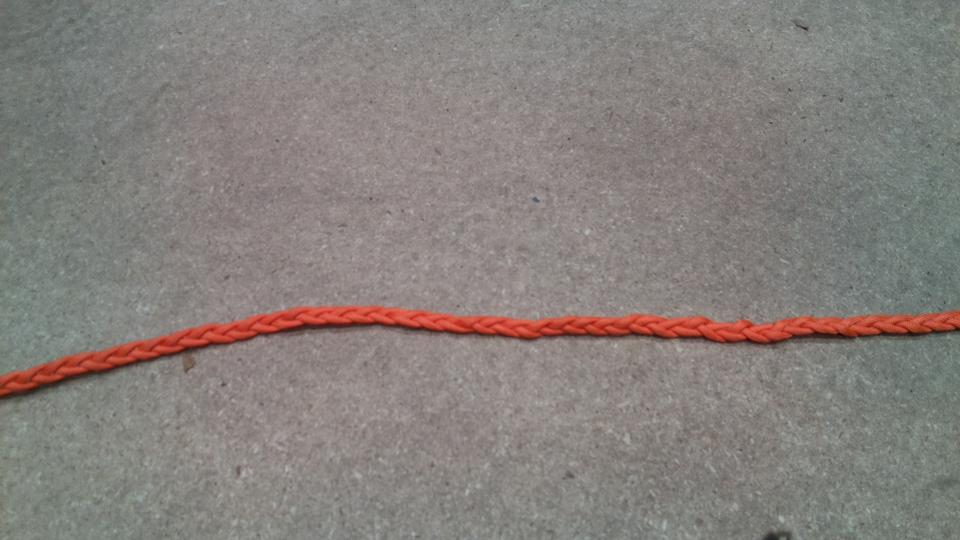rope: (1, 301, 959, 403)
